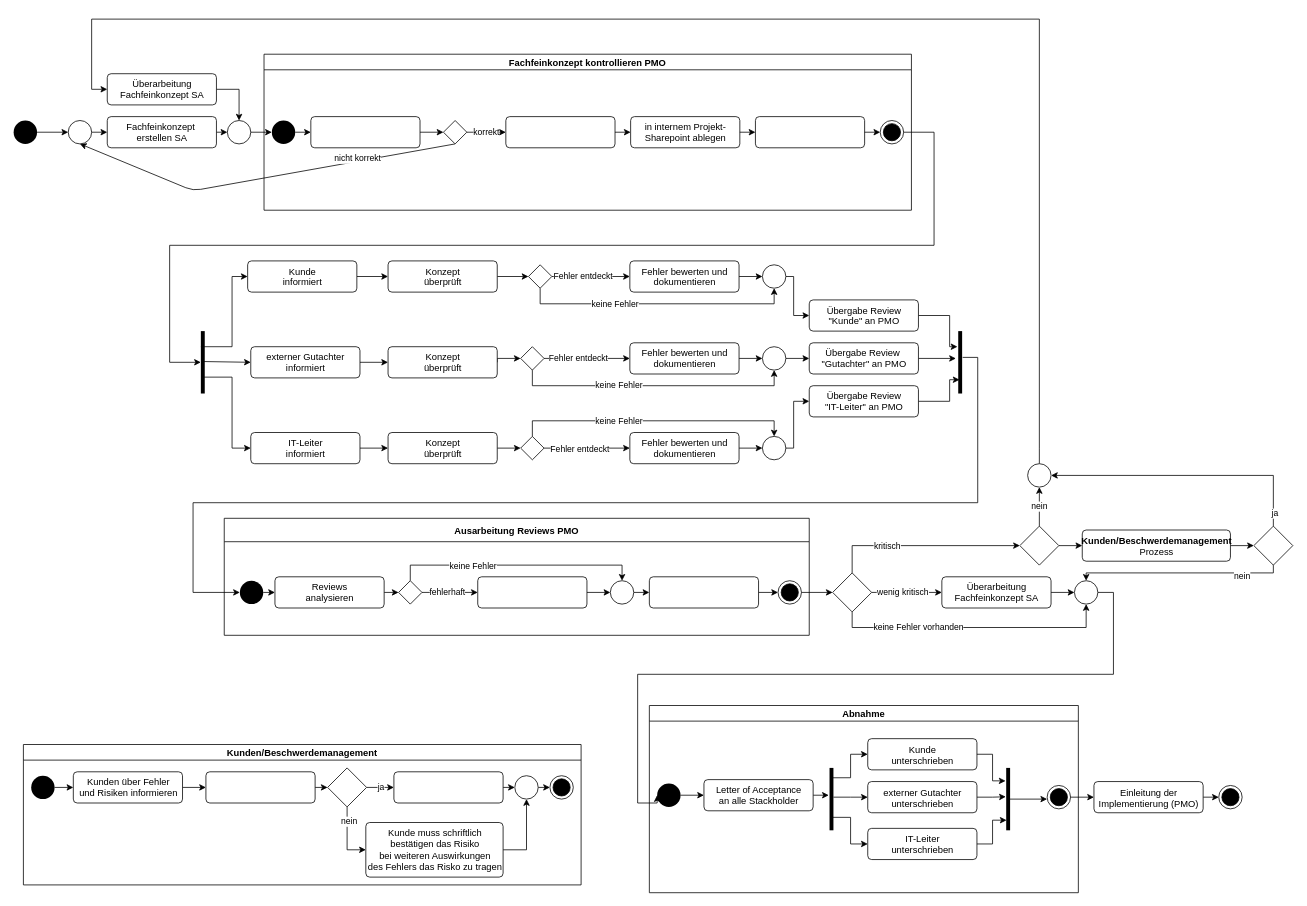
This 1307x906 diagram has some shape labels left out. The shapes that lost their labels are listed below. From the top down, each one's centre as x and y in pixels, then its label:
At [365,132]: "Dokument auf Richtigkeit kontrollieren".
At [560,132]: "In einheitliches Format bringen".
At [810,132]: "Stakeholder benachrichtigen".
At [1039,545]: "hoher Zeitdruck".
At [1273,545]: "Zeit verlä.?".
At [532,592]: "Fehler erneut bewerten".
At [704,592]: "Gesamtbewertung ausführen".
At [852,592]: "Fehler?".
At [260,787]: "Verhandlung mit Kunden über Konsequenzen".
At [347,787]: "Kunde Einsicht.".
At [448,787]: "Zeitraum verlängert ggfs neuer Projektpreis".
